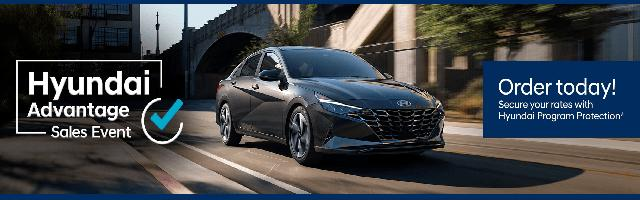hyundai: (214, 46, 446, 164)
